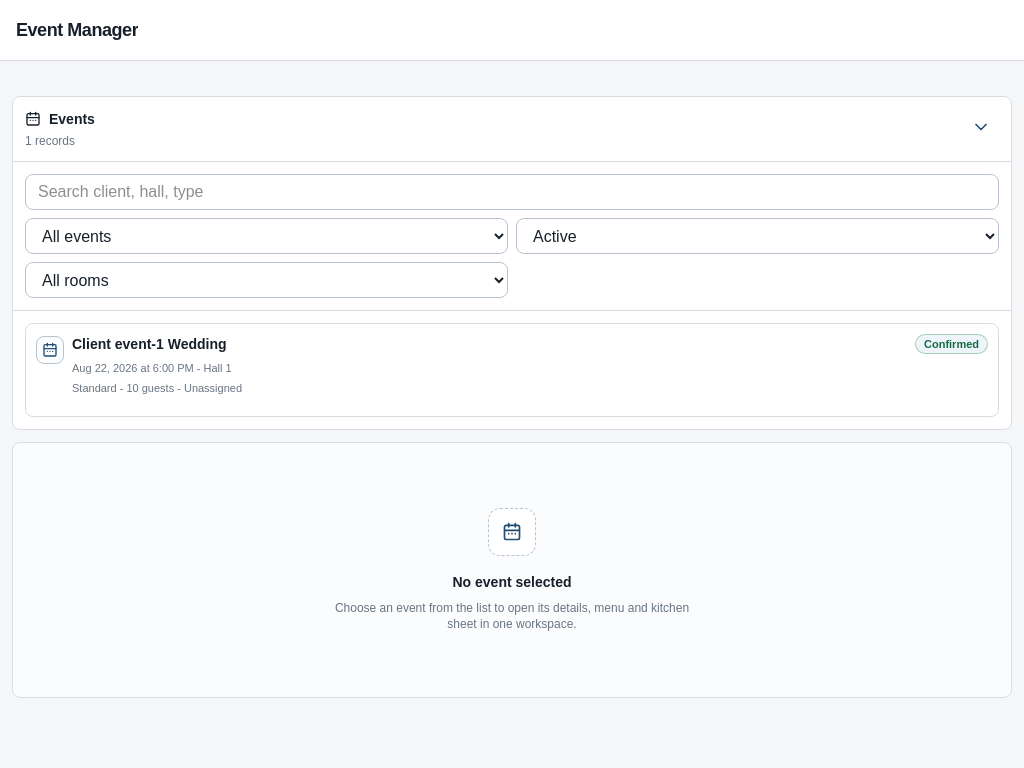
Event Manager selection › leaves the sidebar alone on a narrow viewport
The width and height of the screenshot is (1024, 768).
Click the button "Client event-1 Wedding": (149, 344) [25, 323, 999, 417]
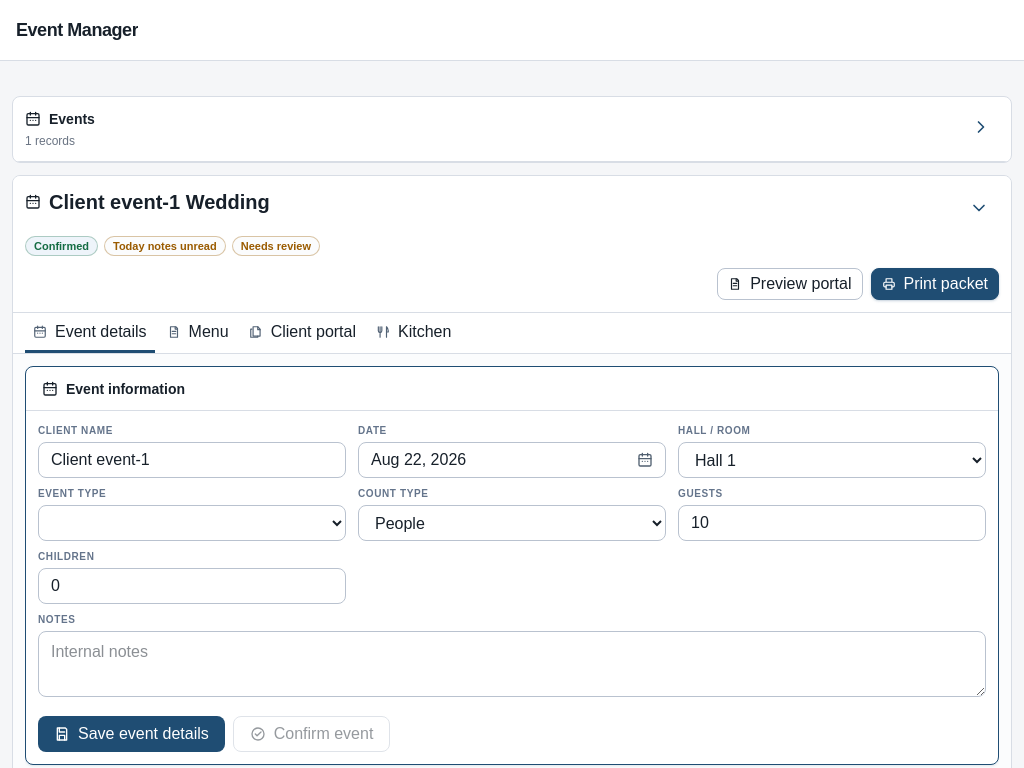
Result: the navigation bar named "Event workspace" is shown at [13, 313, 1011, 354]
